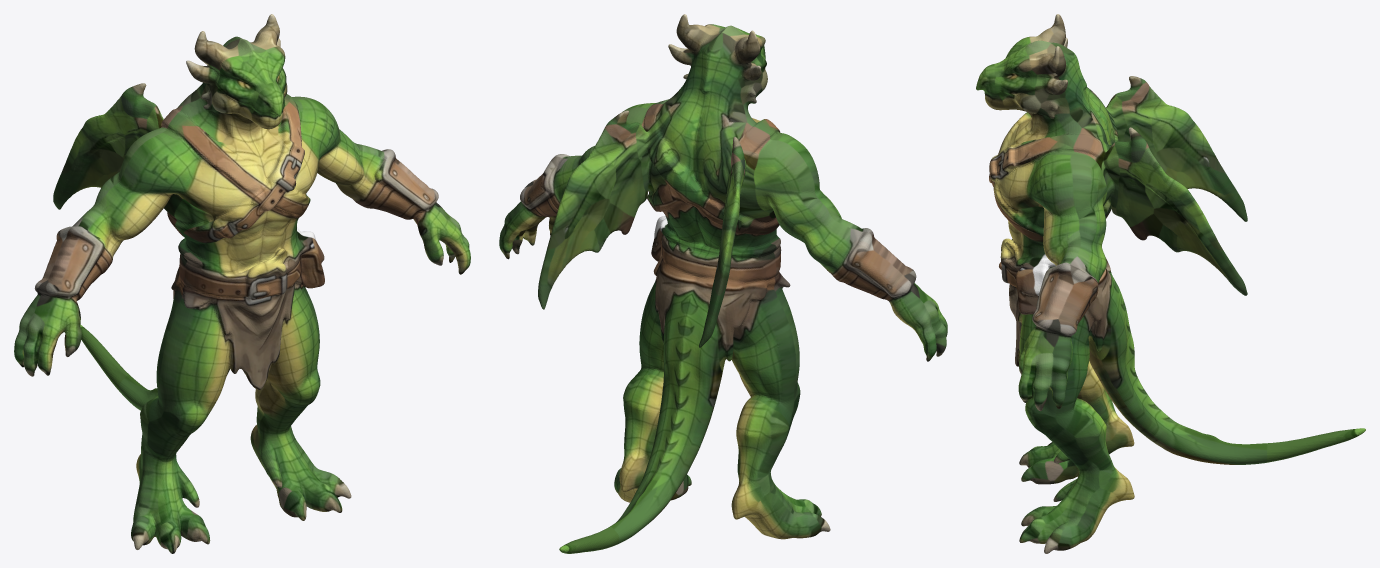
Rendered from lagarto.glb.
The picture shows the model from 3 angles, left to right: view 1: azimuth 30°, elevation 25°; view 2: azimuth 150°, elevation 25°; view 3: azimuth 270°, elevation 25°; orthographic projection. The views are drawn at different scales.
Visible parts, largest first — view 1: world; view 2: world; view 3: world.
Boxes of the visible parts, <box> form: world: <box>14,14,470,553</box>; world: <box>499,14,947,553</box>; world: <box>976,14,1365,553</box>.
Size of the model in its own units: 1.82 by 1.96 by 1.45.
Materials: 1 (1 with a texture image).
